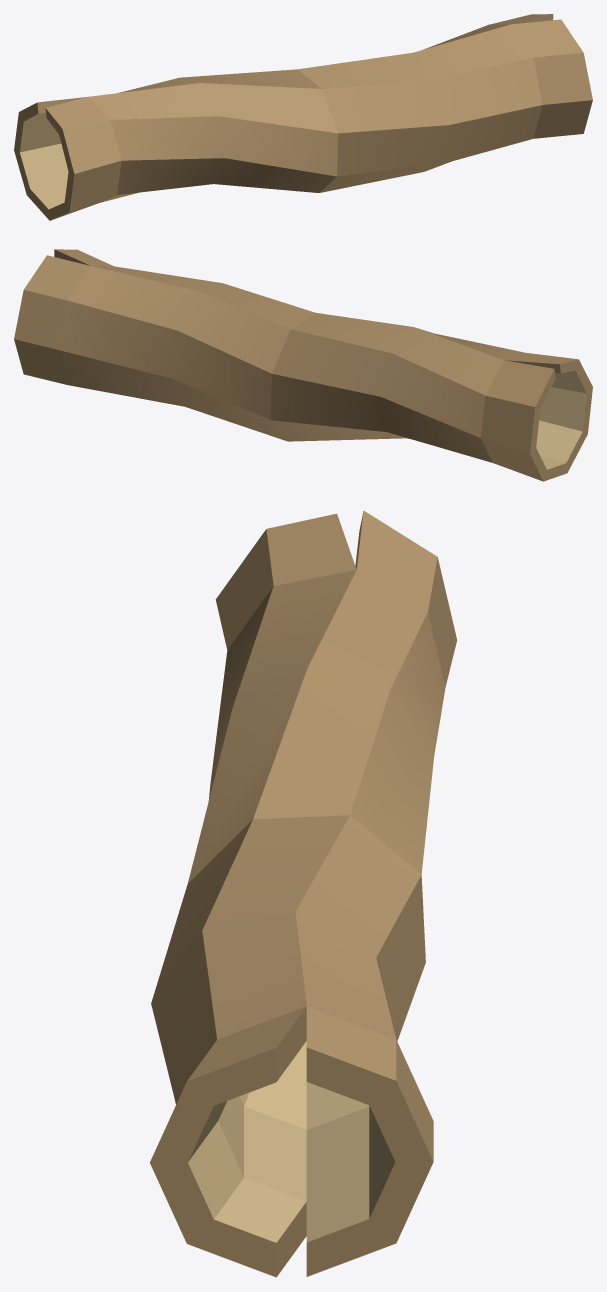
File: atoll_Driftwood.fbx
3 views of the same model, one above another, from view 1: azimuth 30°, elevation 25°; view 2: azimuth 150°, elevation 25°; view 3: azimuth 270°, elevation 25° (orthographic). The views are drawn at different scales.
Parts seen in each view (by area): view 1: pCylinder1; view 2: pCylinder1; view 3: pCylinder1.
Boxes of the visible parts, x1,y1,x2,y2 form: pCylinder1: (14, 14, 592, 220); pCylinder1: (14, 249, 592, 481); pCylinder1: (150, 511, 456, 1277).
Bounding box in the file's own units: 330 × 87.05 × 87.56.
